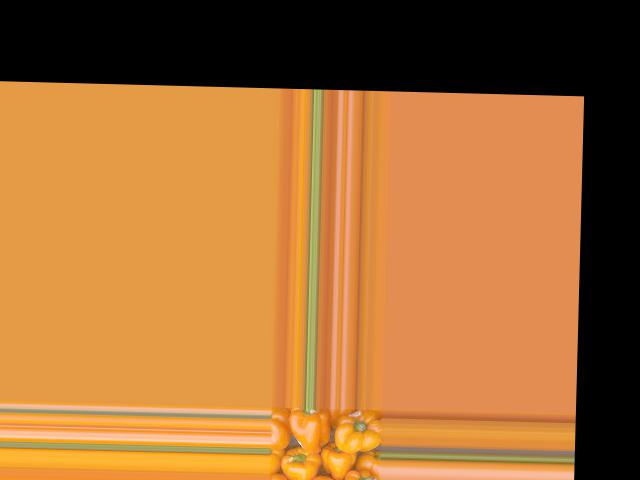bell_pepper: (271, 406, 290, 451)
